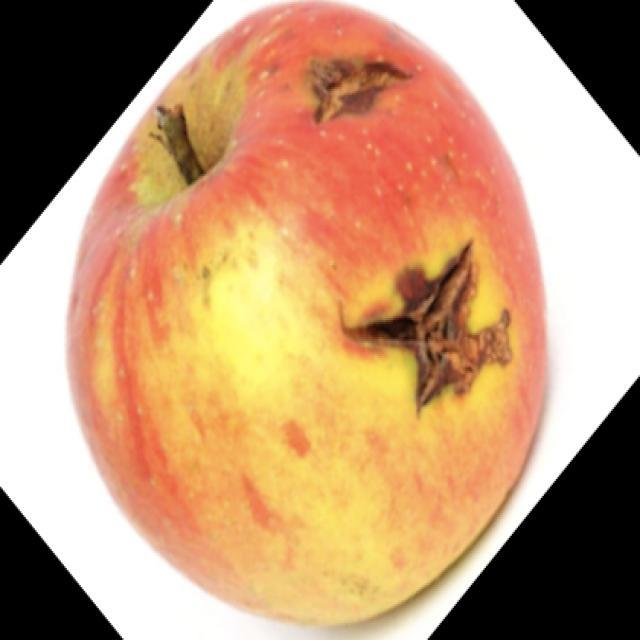Rotten: (74, 25, 548, 622)
